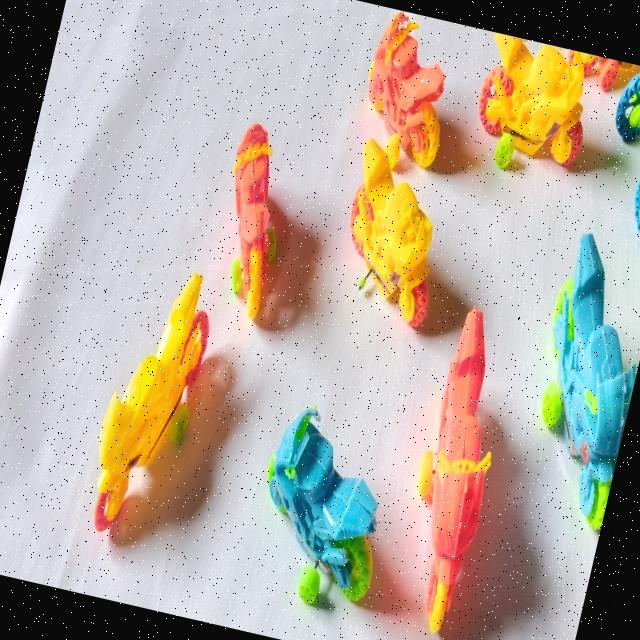bikes: (95, 273, 208, 530), (542, 233, 636, 529), (417, 308, 491, 632), (267, 407, 377, 604), (478, 32, 598, 167), (350, 139, 432, 325), (368, 12, 445, 169), (230, 123, 276, 318)
